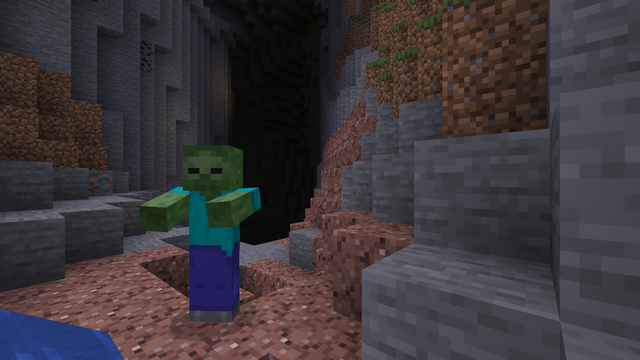zombies: (178, 147, 251, 337)
